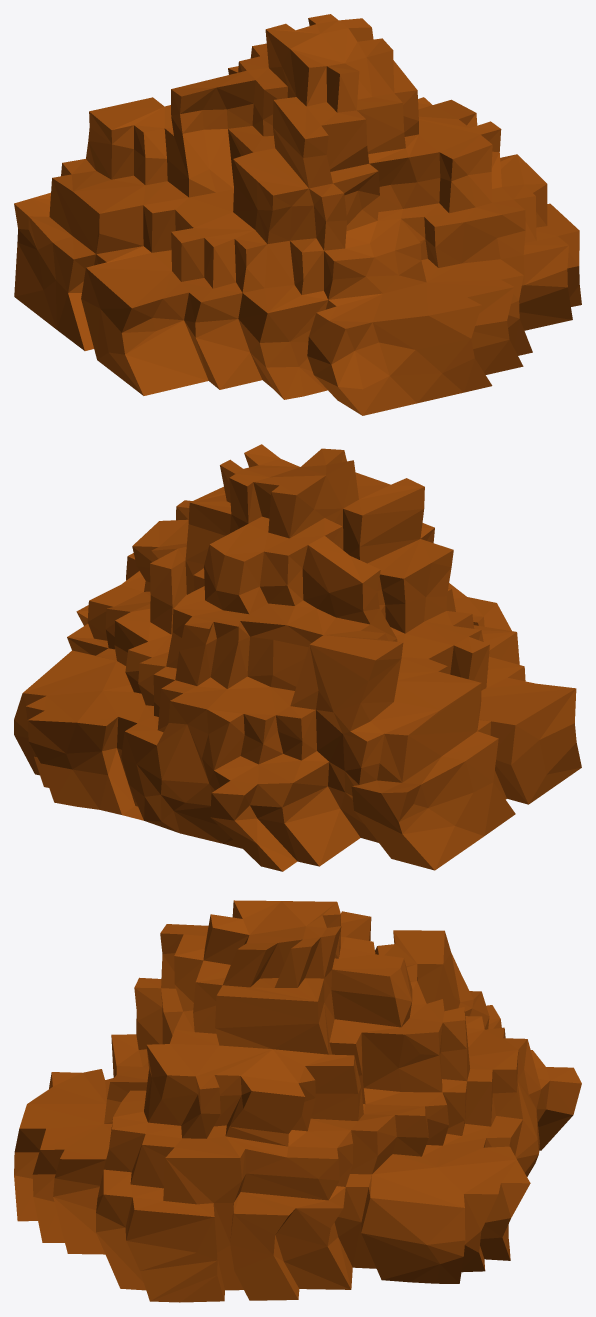
File: roca.fbx
3 views of the same model, one above another, from view 1: azimuth 30°, elevation 25°; view 2: azimuth 150°, elevation 25°; view 3: azimuth 270°, elevation 25° (orthographic). The views are drawn at different scales.
Parts seen in each view (by area): view 1: Plane; view 2: Plane; view 3: Plane.
Part boxes in pixels (box(x1,y1,x2,y2)): Plane: box(14, 14, 581, 415); Plane: box(14, 444, 581, 871); Plane: box(14, 900, 581, 1302).
Size of the model in its own units: 13.24 by 7.84 by 14.14.
